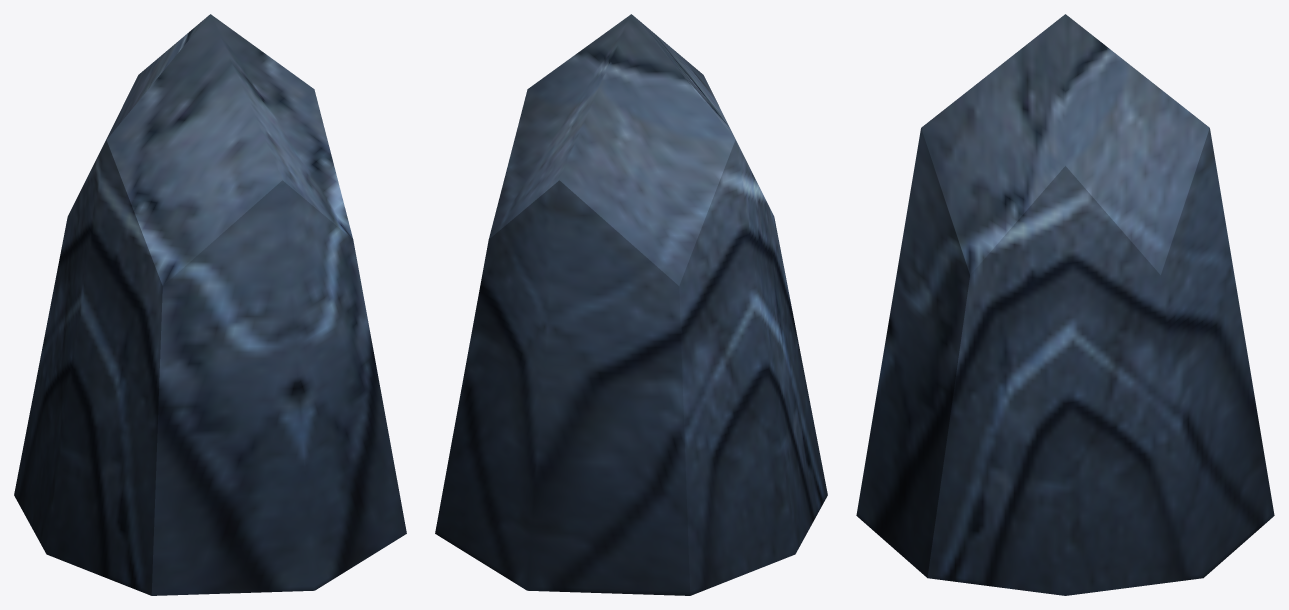
Rendered from MJ_Jsls_07.FBX.
3 views of the same model, side by side, from view 1: azimuth 30°, elevation 25°; view 2: azimuth 150°, elevation 25°; view 3: azimuth 270°, elevation 25° (orthographic).
Visible parts, largest first — view 1: Box11; view 2: Box11; view 3: Box11.
Part boxes in pixels (x1,y1,x2,y2): Box11: (14, 14, 406, 595); Box11: (435, 14, 827, 595); Box11: (856, 14, 1274, 595).
Bounding box in the file's own units: 2.45 × 3.57 × 2.7.
